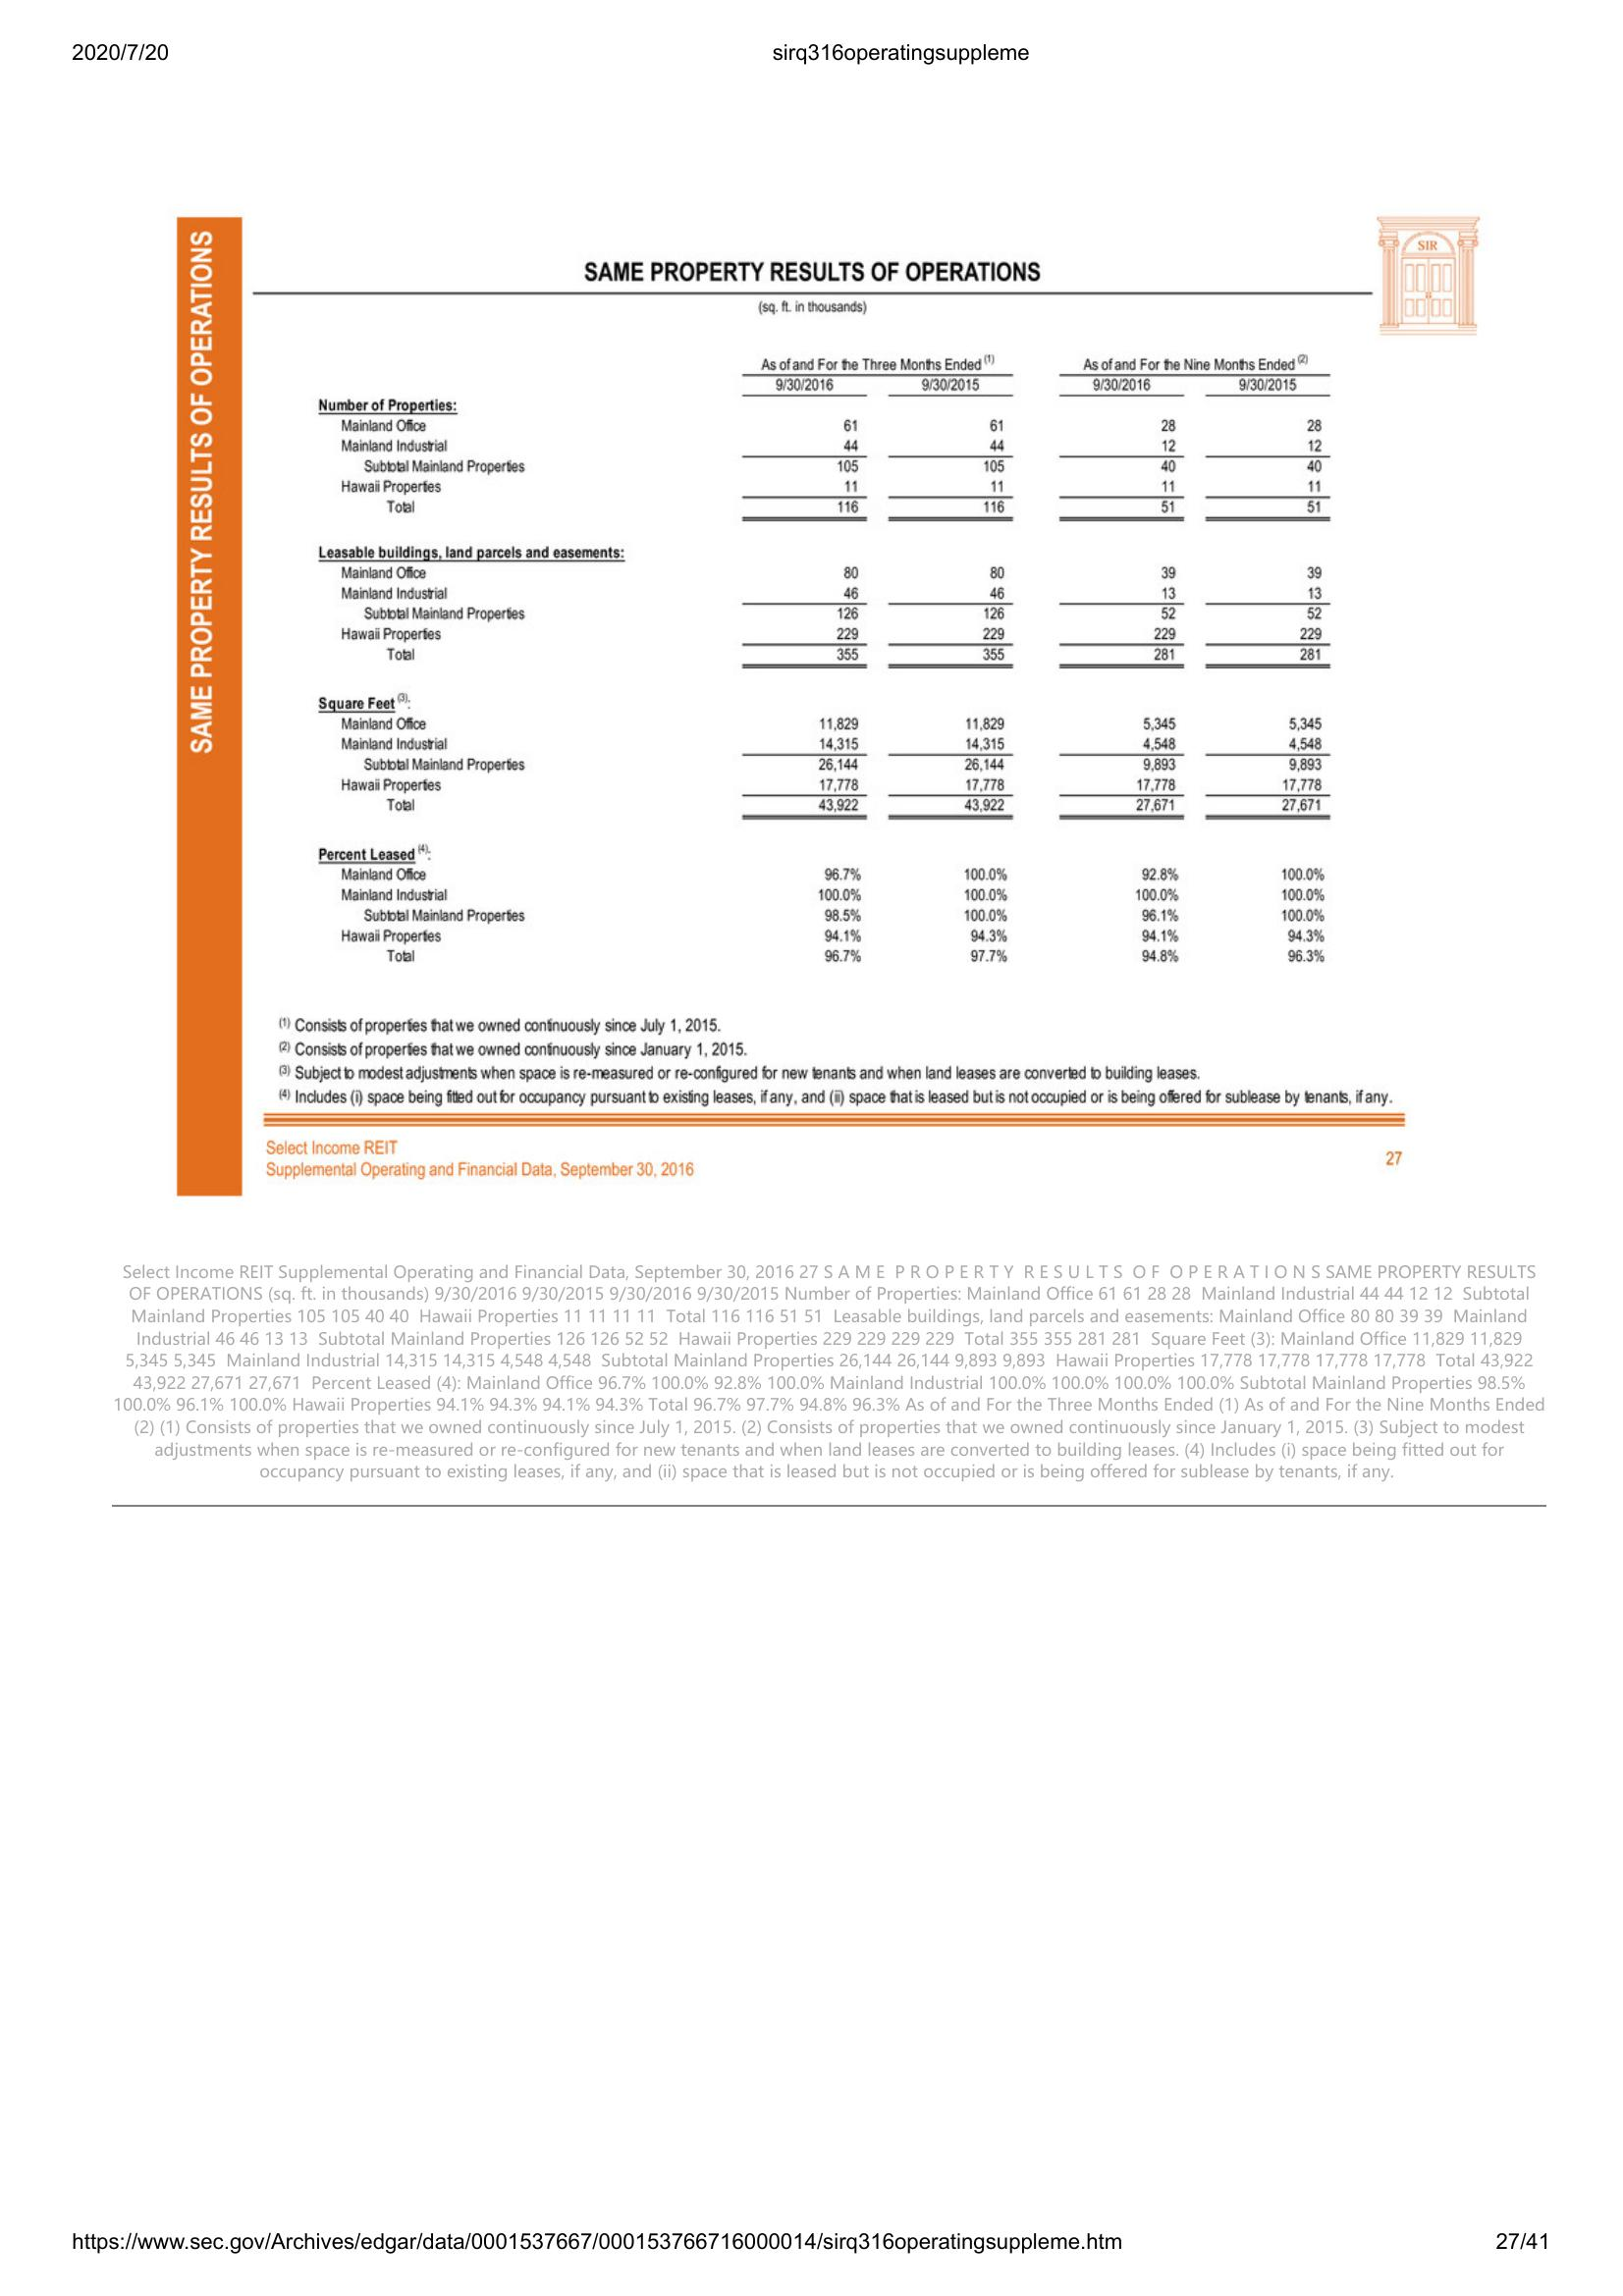table: (304, 351, 1337, 976)
